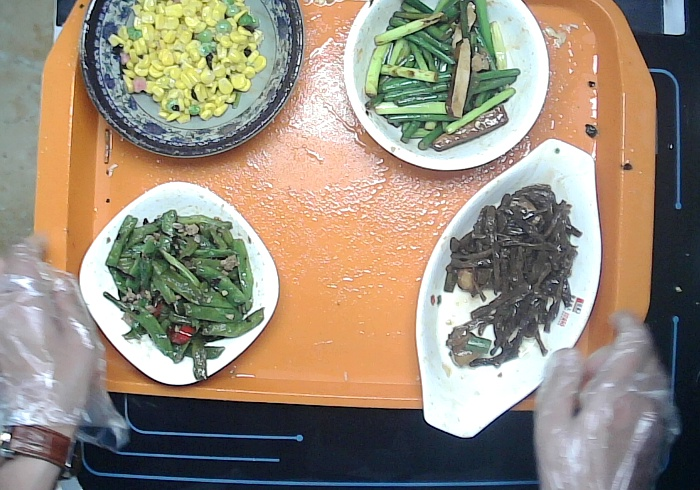ZNLD-Qing_Hua_Wan: (69, 1, 308, 162)
ZNLD-Si_Fang_Wan: (68, 167, 286, 391)
ZNLD-Tang_Wan: (341, 1, 560, 175)
ZNLD-Yu_Pan: (406, 132, 608, 445)
